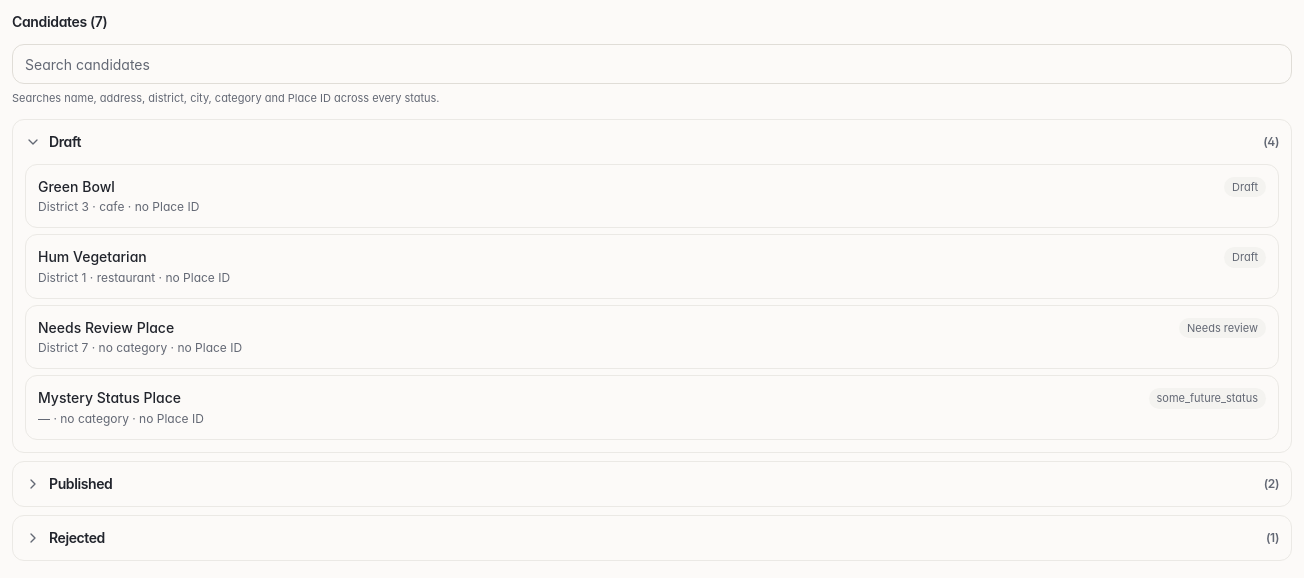
Test: WO-128 candidate search › searches by name across statuses and shows filtered counts
Type "garden" into the search field with placeholder "Search candidates" at (652, 64), box [12,44,1292,84]
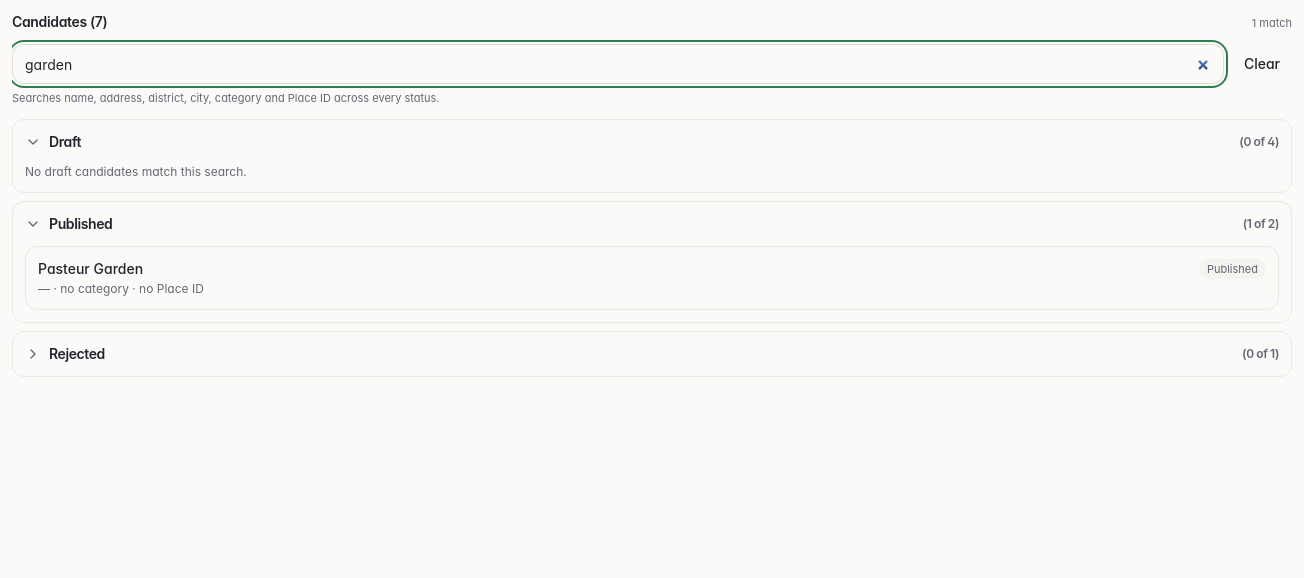
Result: the text "Pasteur Garden" is shown at [38,258,143,278]
